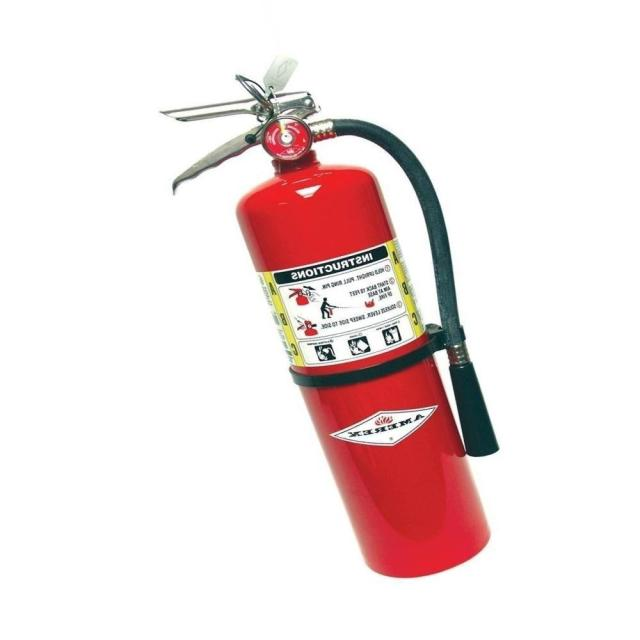fire_extinguisher: (155, 48, 511, 583)
